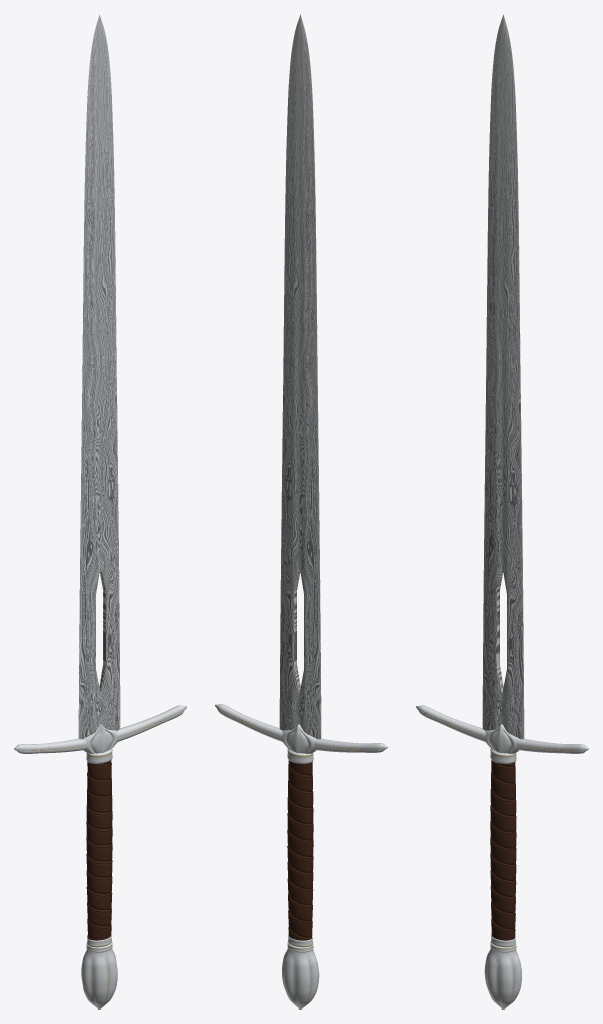
The model's file is branch-sword-etch-v6.glb.
3 views of the same model, side by side, from view 1: azimuth 30°, elevation 25°; view 2: azimuth 150°, elevation 25°; view 3: azimuth 330°, elevation 25° (orthographic).
Visible parts, largest first — view 1: Blade, Grip, Guard, Pommel; view 2: Blade, Grip, Guard, Pommel; view 3: Blade, Grip, Guard, Pommel.
Part boxes in pixels (bbox=[...]): Blade: bbox=[78, 14, 120, 739]; Grip: bbox=[86, 760, 112, 947]; Guard: bbox=[14, 705, 186, 763]; Pommel: bbox=[81, 941, 117, 1009]; Blade: bbox=[279, 14, 321, 739]; Grip: bbox=[287, 760, 313, 947]; Guard: bbox=[215, 704, 387, 763]; Pommel: bbox=[282, 941, 319, 1009]; Blade: bbox=[482, 14, 524, 739]; Grip: bbox=[490, 760, 516, 947]; Guard: bbox=[416, 705, 588, 763]; Pommel: bbox=[484, 941, 521, 1009].
Size of the model in its own units: 0.23 by 1.27 by 0.0388.
Materials: 8 (4 with a texture image).
